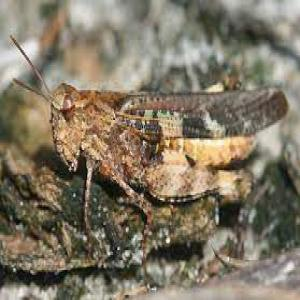locust: (34, 61, 298, 211)
